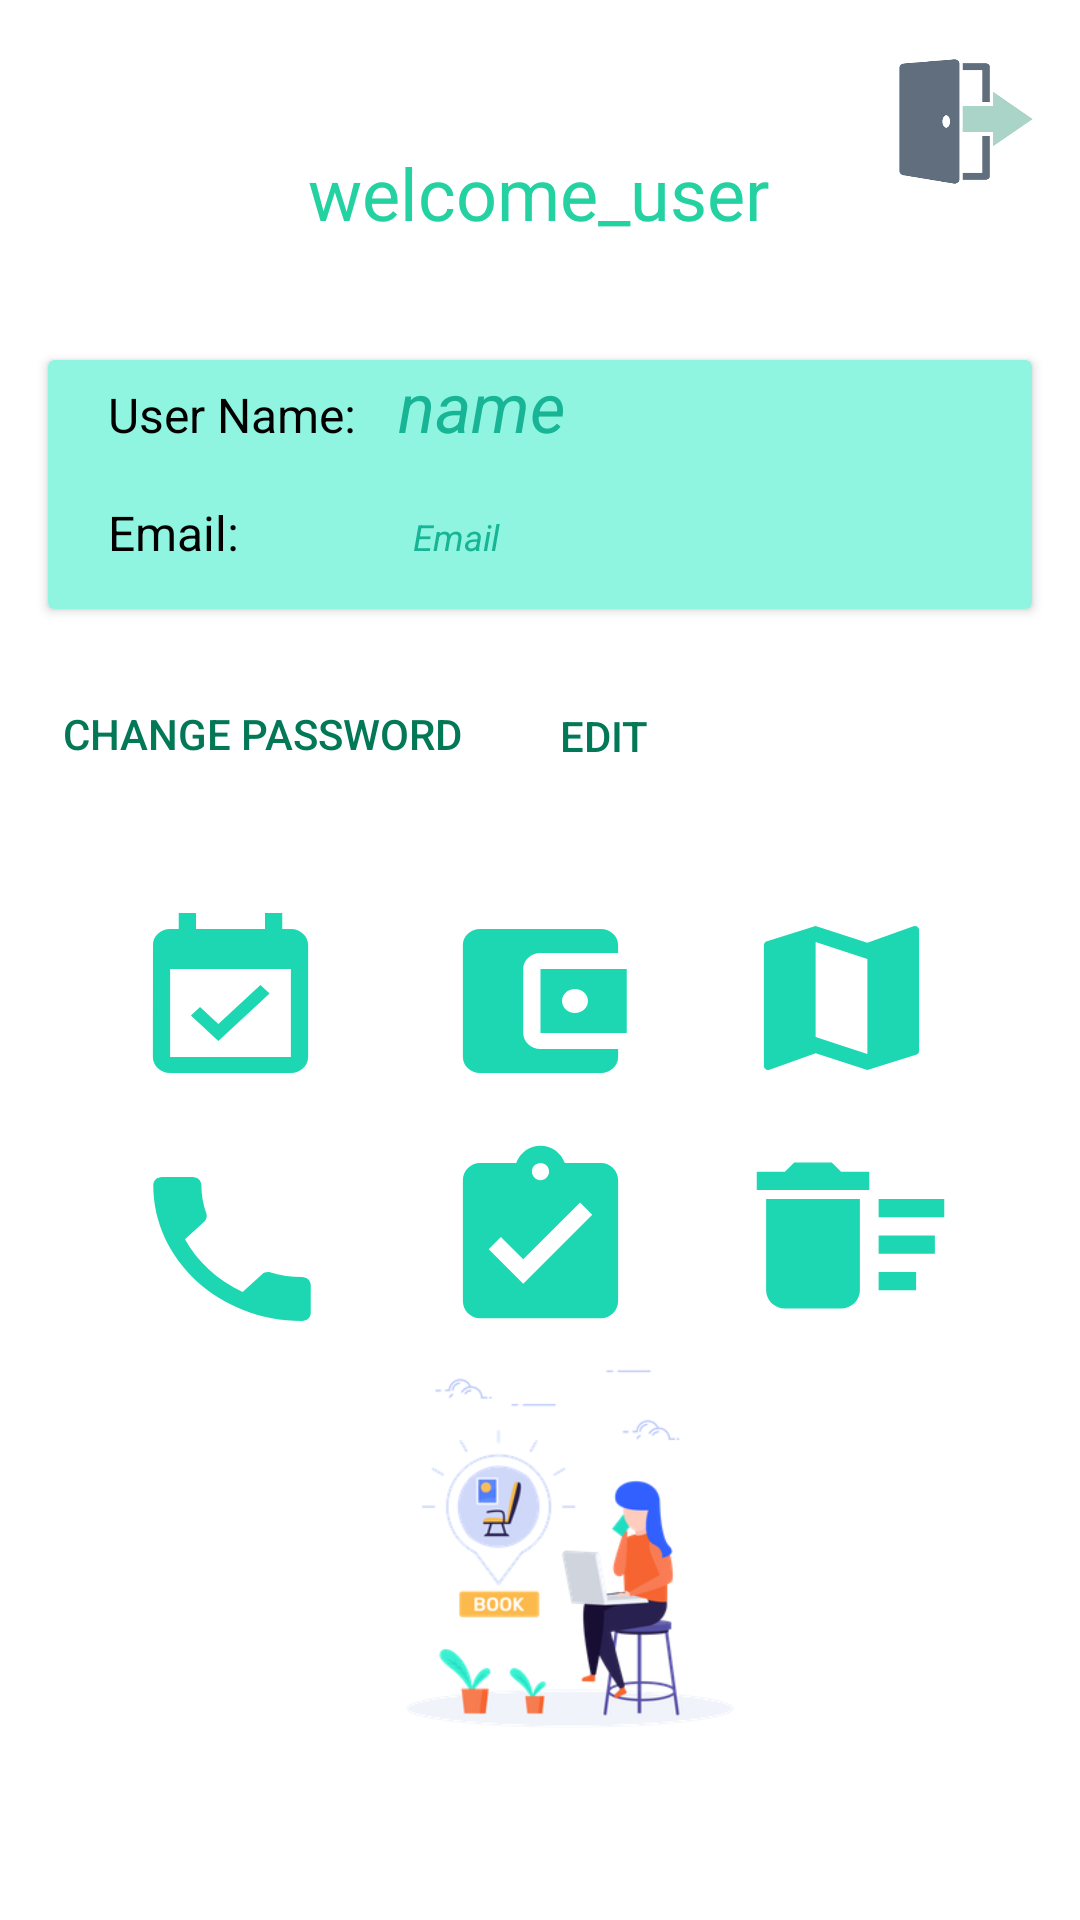

Point at icon controls on the screen. Image size 1080w x 1920h, points as point (x, y).
balanceicon: point (544, 1001)
newbook: point (230, 993)
newmap: point (841, 998)
